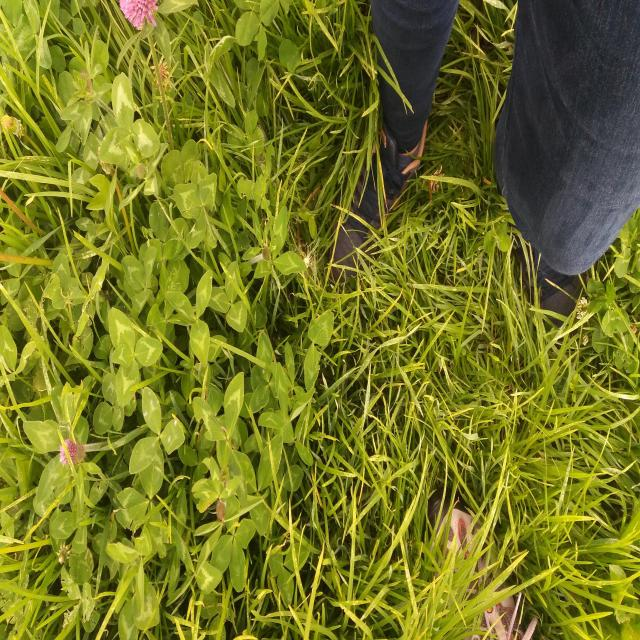Four Leaf Clover: (108, 307, 162, 407), (349, 372, 377, 412)
